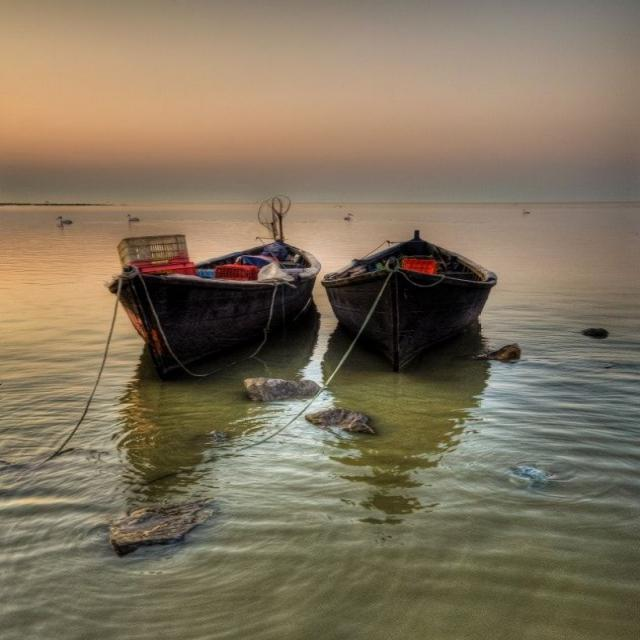ship: (110, 208, 325, 389), (321, 227, 504, 372)
